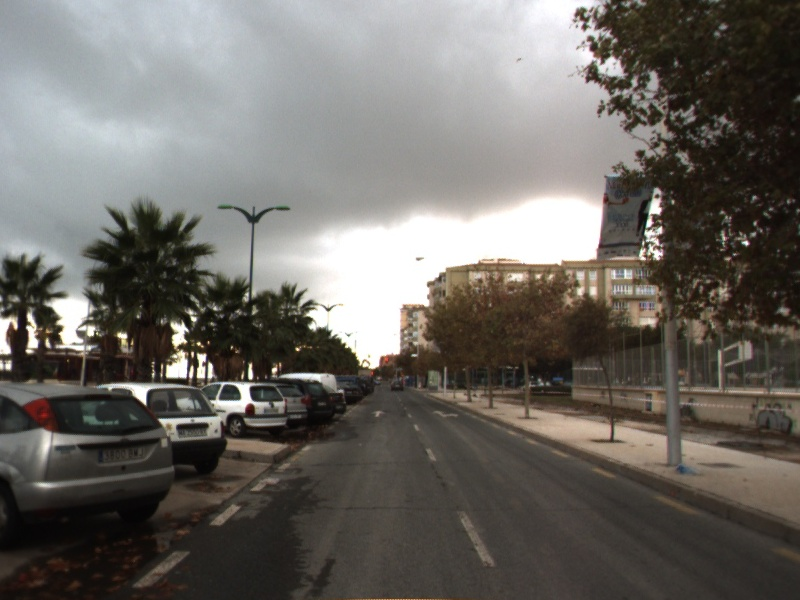STRAIGHT: (370, 409, 388, 419)
STRAIGHT_RIGHT: (431, 409, 461, 420)
